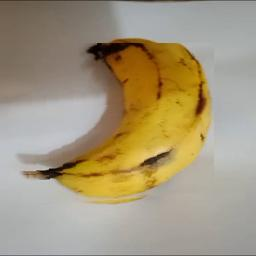Banana Semifresh: (23, 43, 215, 206)
